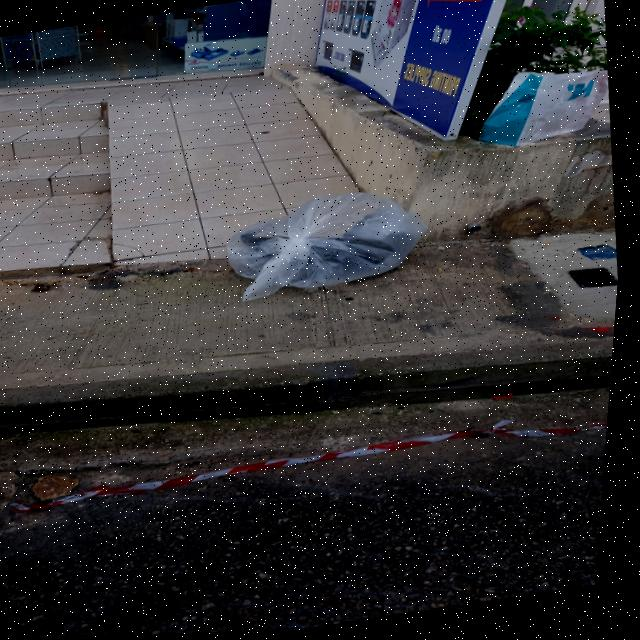Organic Waste -White Bag-: (221, 187, 432, 310)
